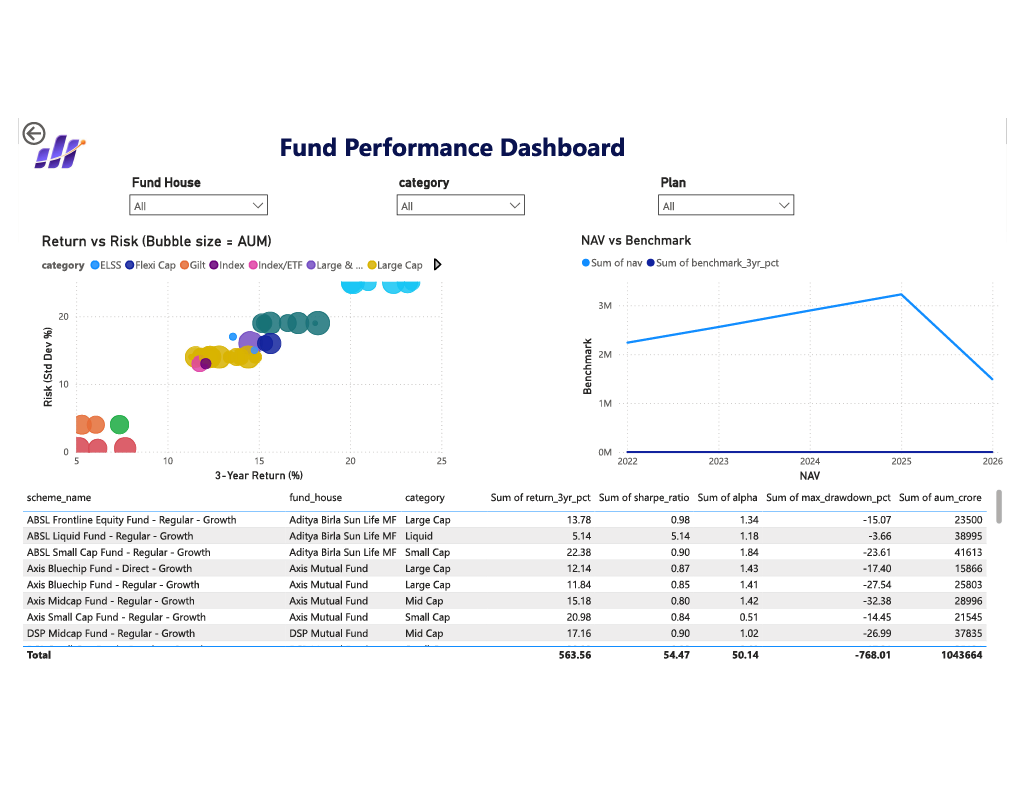

The dashboard page shown, as its layout file describes it:
{"tool":"powerbi","page":{"name":"Fund Performance","canvas":[1280,720],"ordinal":1},"visuals":[{"type":"scatterChart","title":"Return vs Risk (Bubble size = AUM)","fields":{"X":["Sum(07_scheme_performance_clean.return_3yr_pct)"],"Y":["Sum(07_scheme_performance_clean.std_dev_ann_pct)"],"Size":["Sum(07_scheme_performance_clean.aum_crore)"],"Category":["07_scheme_performance_clean.scheme_name"],"Series":["07_scheme_performance_clean.category"]},"box":[24.9,148,534.9,328.4],"z":0},{"type":"tableEx","fields":{"Values":["07_scheme_performance_clean.scheme_name","07_scheme_performance_clean.fund_house","07_scheme_performance_clean.category","Sum(07_scheme_performance_clean.return_3yr_pct)","Sum(07_scheme_performance_clean.sharpe_ratio)","Sum(07_scheme_performance_clean.alpha)","Sum(07_scheme_performance_clean.max_drawdown_pct)","Sum(07_scheme_performance_clean.aum_crore)"]},"box":[0,476.4,1280,233.9],"z":1000},{"type":"lineChart","title":"NAV vs Benchmark","fields":{"Y":["Sum(02_nav_history_clean.nav)","Sum(07_scheme_performance_clean.benchmark_3yr_pct)"],"Category":["02_nav_history_clean.date.Variation.Date Hierarchy.Year","02_nav_history_clean.date.Variation.Date Hierarchy.Quarter","02_nav_history_clean.date.Variation.Date Hierarchy.Month","02_nav_history_clean.date.Variation.Date Hierarchy.Day"]},"box":[724,148,556,328.4],"z":2000},{"type":"slicer","fields":{"Values":["07_scheme_performance_clean.fund_house"]},"box":[134.3,68.4,199,70.9],"z":3000},{"type":"slicer","fields":{"Values":["07_scheme_performance_clean.category"]},"box":[480.2,68.4,185.3,79.6],"z":4000},{"type":"slicer","fields":{"Values":["07_scheme_performance_clean.plan"]},"box":[818.5,68.4,196.5,70.9],"z":5000},{"type":"textbox","box":[333.4,8.7,573.5,65.9],"z":6000},{"type":"image","box":[0,0,105.7,87.1],"z":6001},{"type":"actionButton","box":[0,0,100,40],"z":6002}]}

Visuals, with their boxes on the page's 1280x720 design canvas (x1, y1, x2, y2). These are canvas units, not pixel positions in the 1024x791 screenshot, which may show the page scaled, cropped or inside an application window:
"Return vs Risk (Bubble size = AUM)" scatterChart: [25, 148, 560, 476]
tableEx - 07_scheme_performance_clean.scheme_name x 07_scheme_performance_clean.fund_house: [0, 476, 1280, 710]
"NAV vs Benchmark" lineChart: [724, 148, 1280, 476]
slicer - 07_scheme_performance_clean.fund_house: [134, 68, 333, 139]
slicer - 07_scheme_performance_clean.category: [480, 68, 666, 148]
slicer - 07_scheme_performance_clean.plan: [818, 68, 1015, 139]
textbox: [333, 9, 907, 75]
image: [0, 0, 106, 87]
actionButton: [0, 0, 100, 40]
